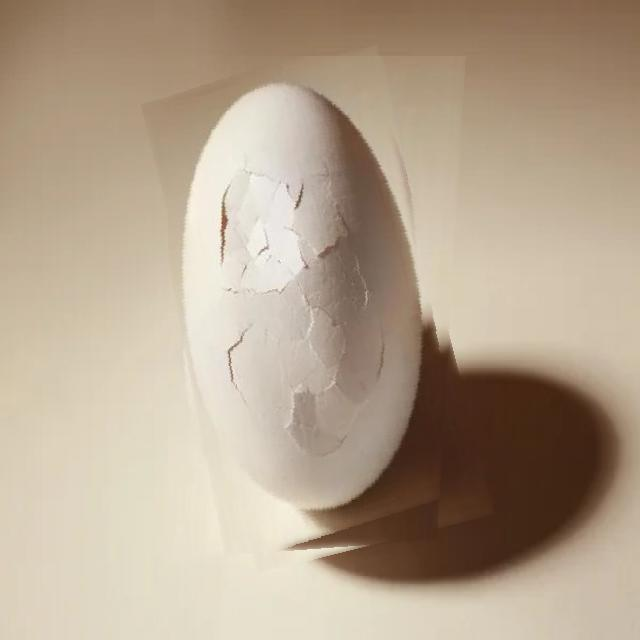biodegradable: (168, 56, 467, 562)
